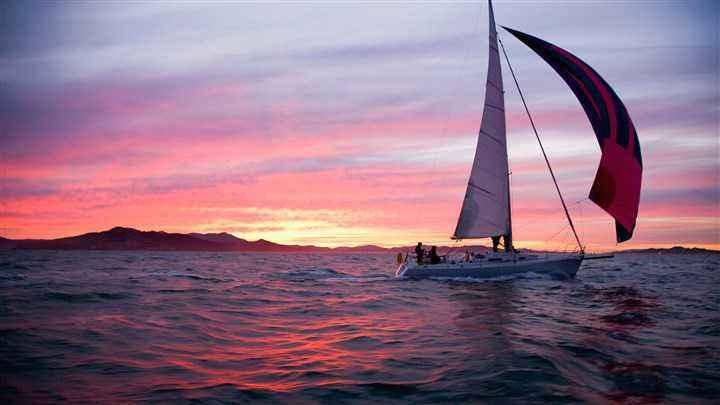fanchuan: (389, 1, 644, 285)
